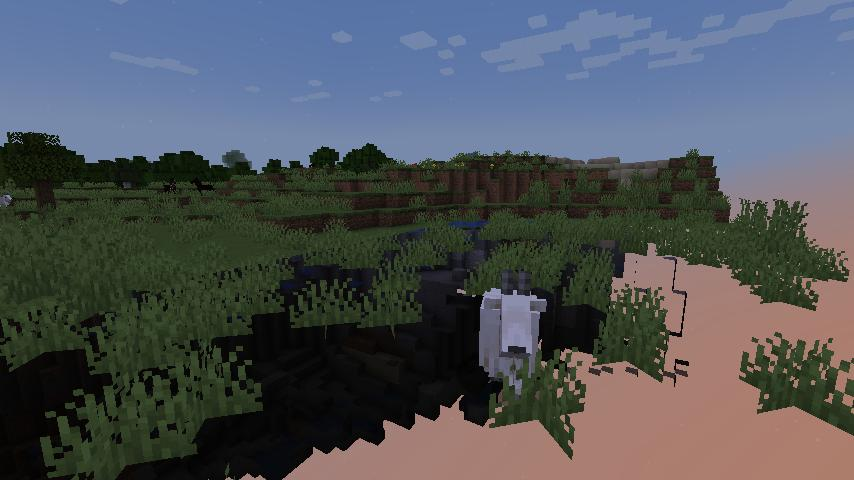goat: (476, 265, 548, 399)
